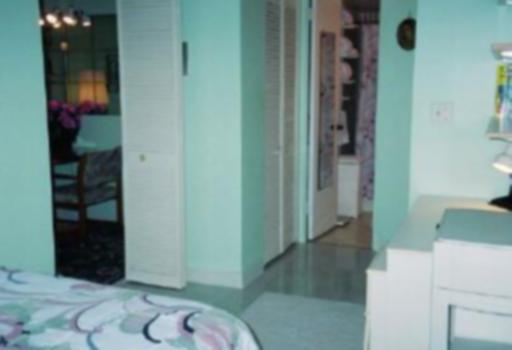Armario: (268, 0, 298, 249)
Puerta: (119, 0, 185, 285), (313, 0, 340, 232)
